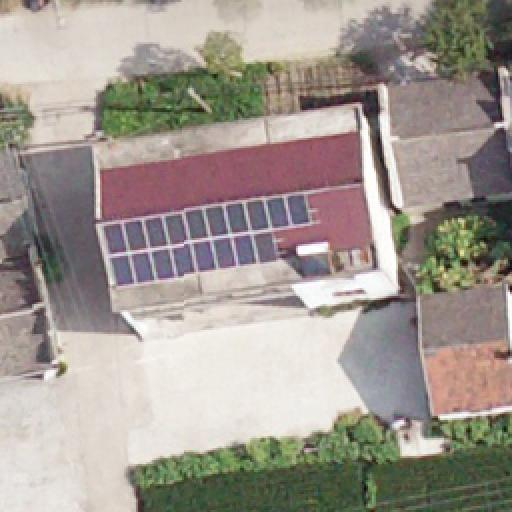solar-panel: (81, 188, 329, 289)
